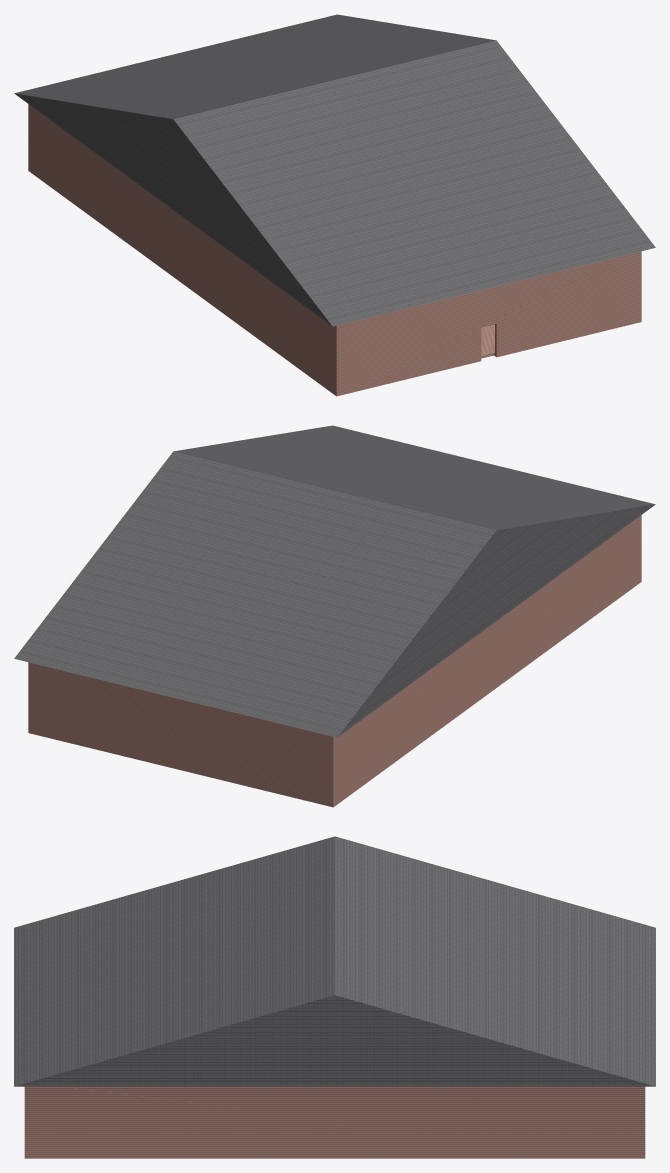
The model's file is fairground_exhibition_hall_4h.glb.
3 views of the same model, one above another, from view 1: azimuth 30°, elevation 25°; view 2: azimuth 150°, elevation 25°; view 3: azimuth 270°, elevation 25° (orthographic).
Parts seen in each view (by area): view 1: fairground_exhibition_hall_4h-col; view 2: fairground_exhibition_hall_4h-col; view 3: fairground_exhibition_hall_4h-col.
Boxes of the visible parts, box(x1,y1,x2,y2) form: fairground_exhibition_hall_4h-col: box(14, 14, 655, 396); fairground_exhibition_hall_4h-col: box(14, 425, 655, 807); fairground_exhibition_hall_4h-col: box(14, 836, 655, 1158).
Size of the model in its own units: 21.2 by 10.44 by 36.2.
2 materials, 2 textured.
